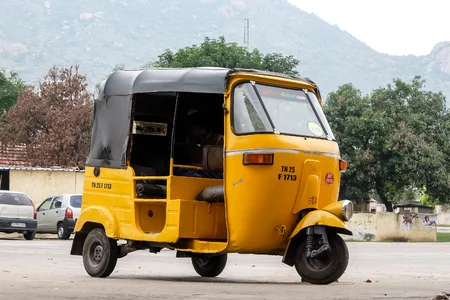auto: (69, 60, 368, 290)
numberplate: (276, 164, 304, 184)
